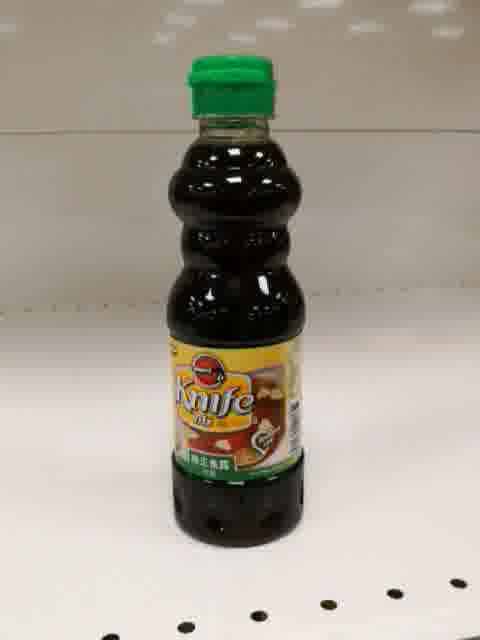cookingoil: (166, 53, 307, 554)
